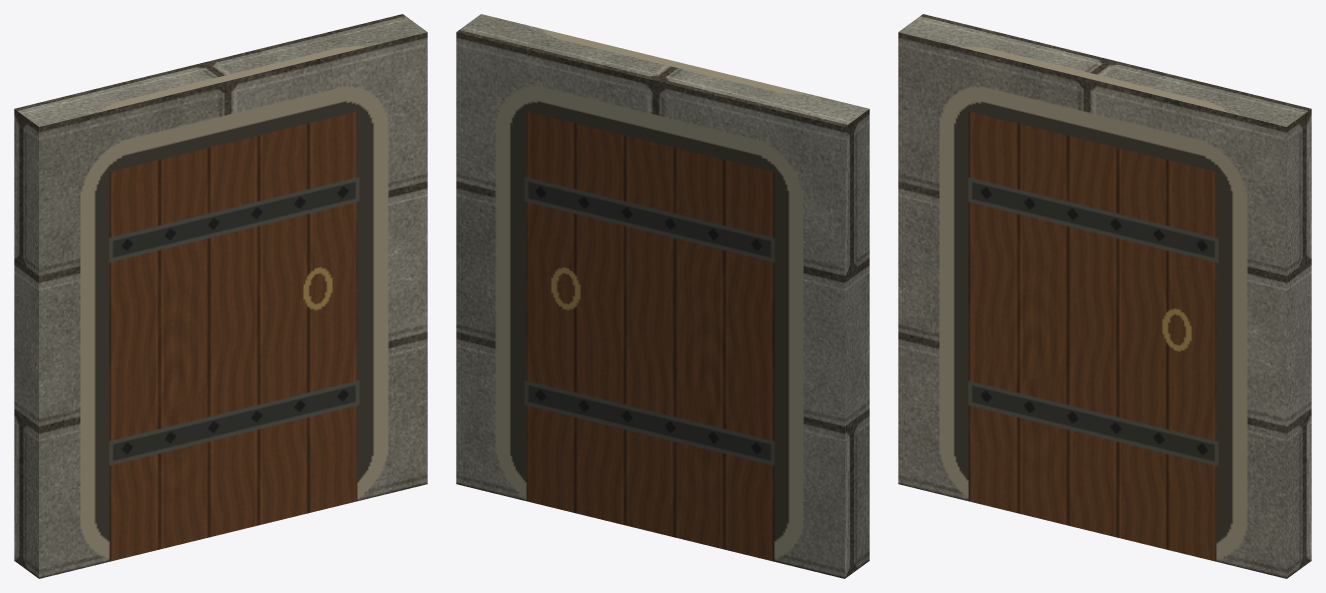
Rendered from door.glb.
3 views of the same model, side by side, from view 1: azimuth 30°, elevation 25°; view 2: azimuth 150°, elevation 25°; view 3: azimuth 330°, elevation 25° (orthographic).
Visible parts, largest first — view 1: door; view 2: door; view 3: door.
Part boxes in pixels (<box>): door: <box>14,14,427,578</box>; door: <box>456,14,869,578</box>; door: <box>898,14,1311,578</box>.
Size of the model in its own units: 0.9 by 1 by 0.1.
1 material, 1 textured.
